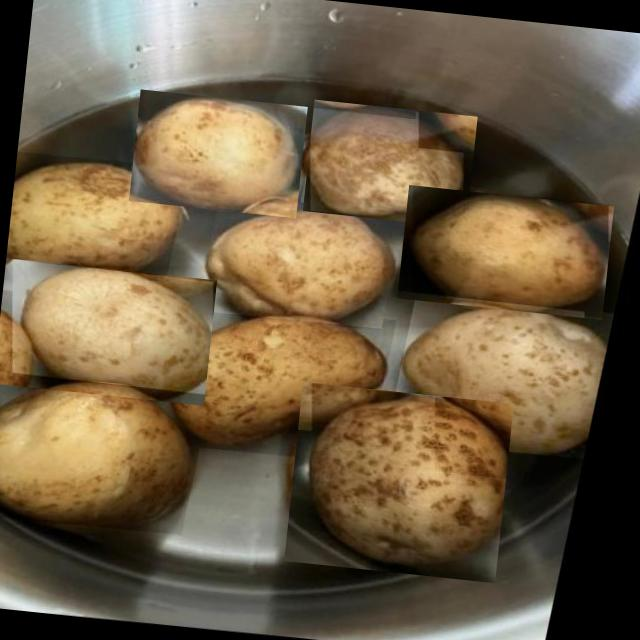Potato: (282, 380, 512, 582), (165, 298, 402, 468), (394, 292, 618, 462), (0, 369, 219, 537), (0, 257, 215, 404), (396, 184, 612, 318), (202, 192, 410, 331), (3, 149, 192, 289), (128, 88, 306, 217), (302, 98, 476, 227)
